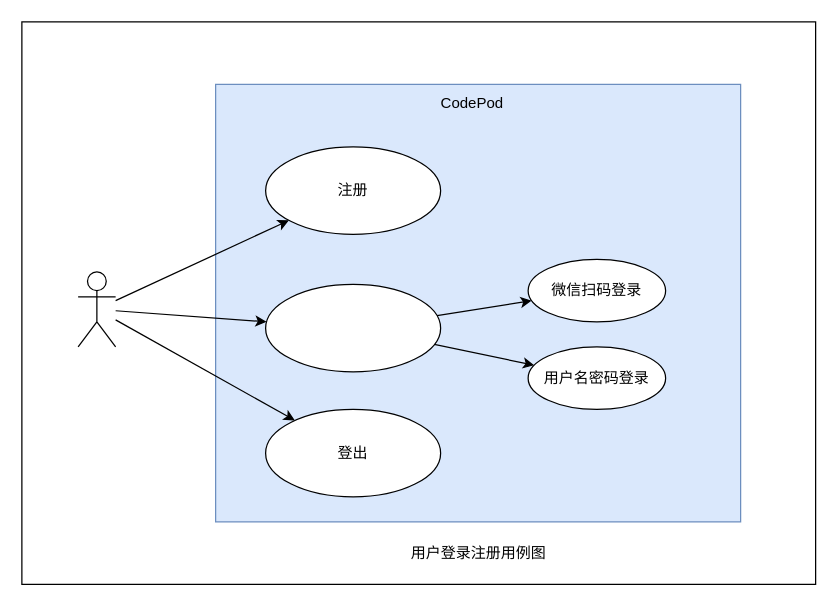
This 838x606 diagram has some shape labels left out. Each missing label, with the centre of its shape:
"登录" belongs at [352,327].
"程序猿" belongs at [96,309].
